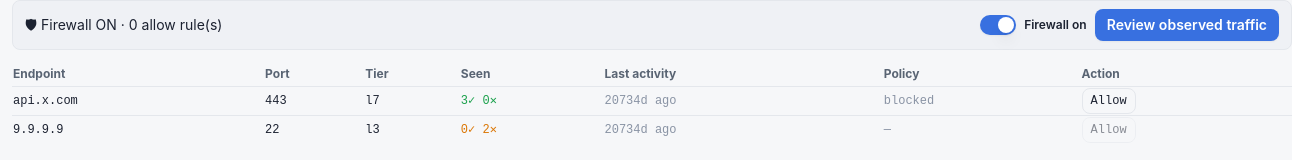
NetlogView › flips the row to allowed right after clicking Allow
What coordinates should you click on to do the following:
click the button with aria-label "allow api.x.com"
I would click on:
 (1109, 101)
Its box is left=1082, top=88, right=1136, bottom=114.
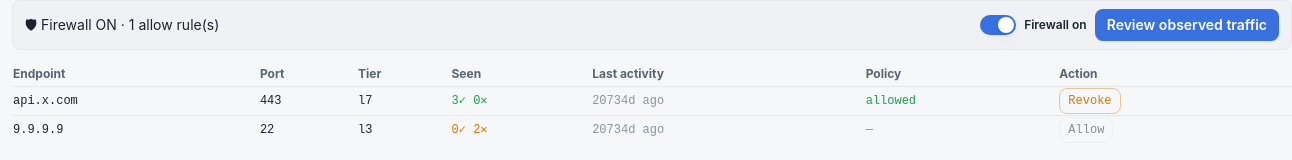
Expected: the button with aria-label "revoke api.x.com" is shown, left=1059, top=88, right=1121, bottom=114
